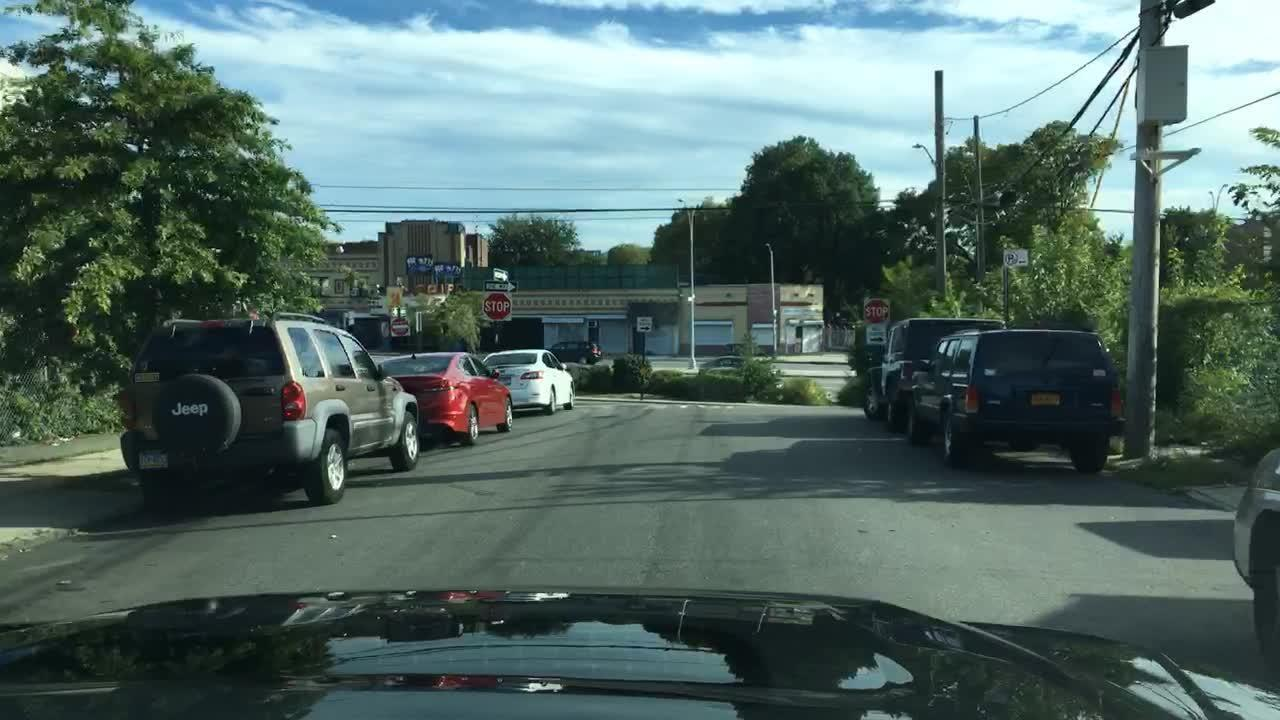jeep: (171, 400, 210, 419)
